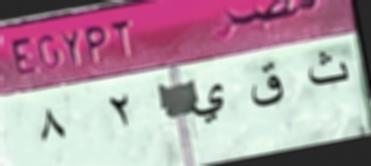2: (108, 91, 135, 128)
8: (36, 106, 70, 144)
qaaf: (242, 62, 288, 117)
thaa: (302, 46, 351, 94)
yaa: (186, 82, 229, 127)
